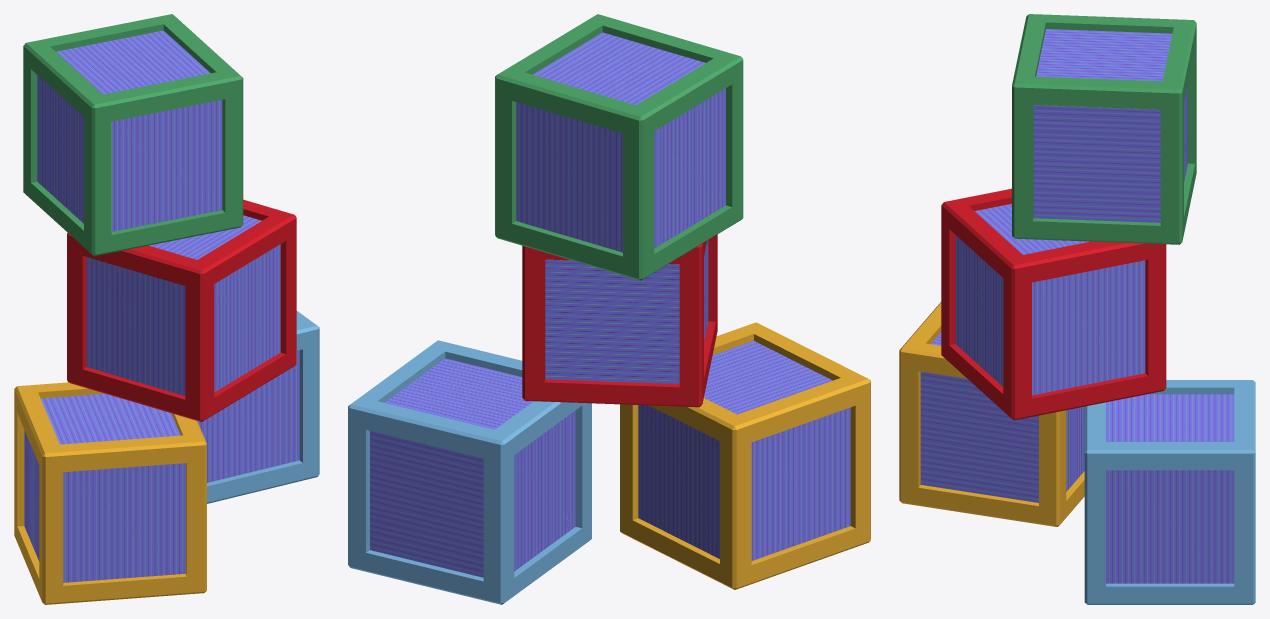
File: WoodBlocks_Group_E_00.FBX
The picture shows the model from 3 angles, left to right: view 1: azimuth 30°, elevation 25°; view 2: azimuth 150°, elevation 25°; view 3: azimuth 270°, elevation 25°; orthographic projection. The views are drawn at different scales.
Parts seen in each view (by area): view 1: WoodBlocks_Group_E_Rough_00, WoodBlocks_Group_E_00; view 2: WoodBlocks_Group_E_Rough_00, WoodBlocks_Group_E_00; view 3: WoodBlocks_Group_E_Rough_00, WoodBlocks_Group_E_00.
Part boxes in pixels (x1,y1,x2,y2): WoodBlocks_Group_E_Rough_00: (24,30,299,582); WoodBlocks_Group_E_00: (14,14,319,604); WoodBlocks_Group_E_Rough_00: (370,32,850,577); WoodBlocks_Group_E_00: (348,14,870,604); WoodBlocks_Group_E_Rough_00: (920,29,1234,583); WoodBlocks_Group_E_00: (899,14,1255,604).
Size of the model in its own units: 2.82 by 3.6 by 2.5.
